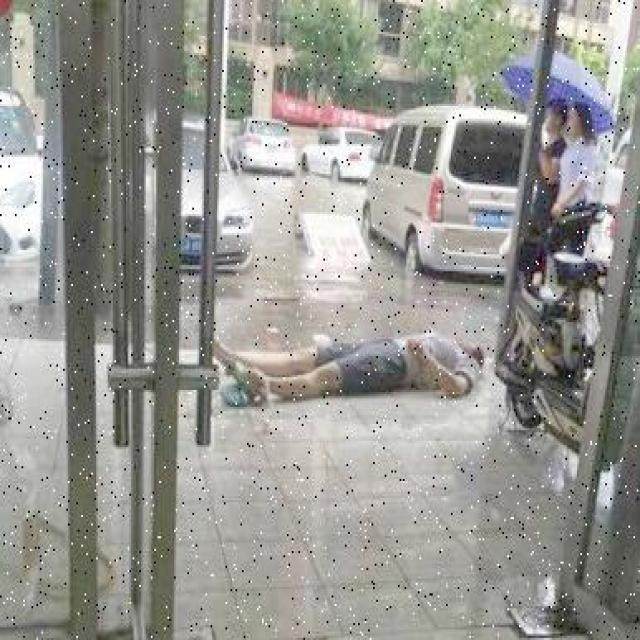fall: (228, 328, 488, 401)
